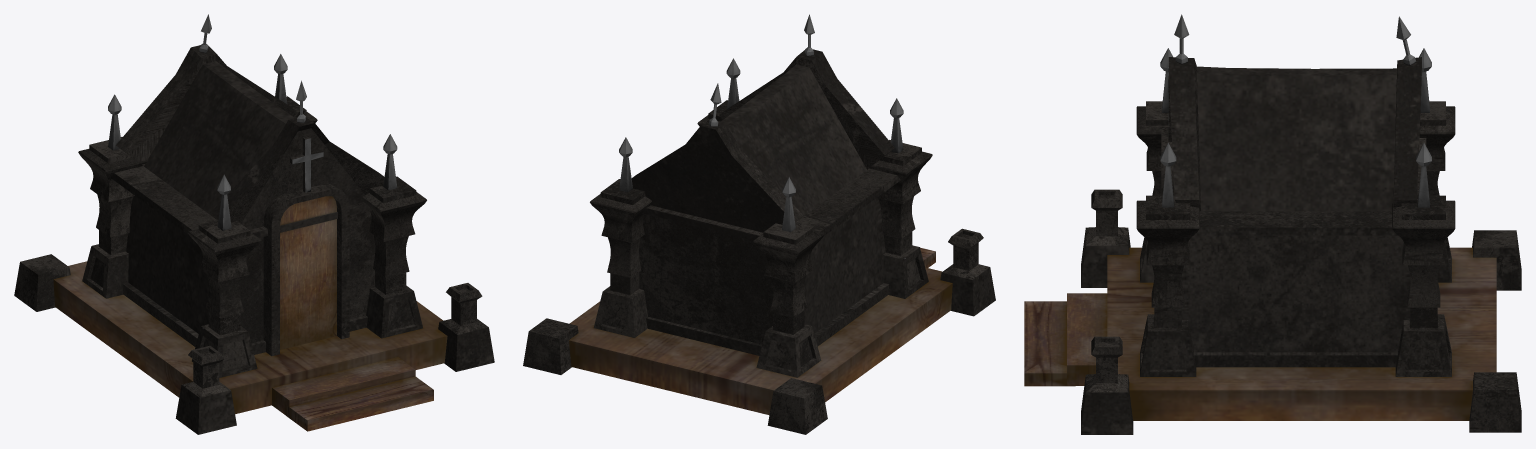
The model's file is crypt.fbx.
The picture shows the model from 3 angles, left to right: view 1: azimuth 30°, elevation 25°; view 2: azimuth 150°, elevation 25°; view 3: azimuth 270°, elevation 25°; orthographic projection. The views are drawn at different scales.
Visible parts, largest first — view 1: crypt; view 2: crypt; view 3: crypt.
Part boxes in pixels (x1=…): crypt: x1=14, y1=14, x2=494, y2=434; crypt: x1=523, y1=14, x2=995, y2=434; crypt: x1=1024, y1=14, x2=1521, y2=434.
Size of the model in its own units: 313 by 289 by 389.
1 material, 1 textured.
